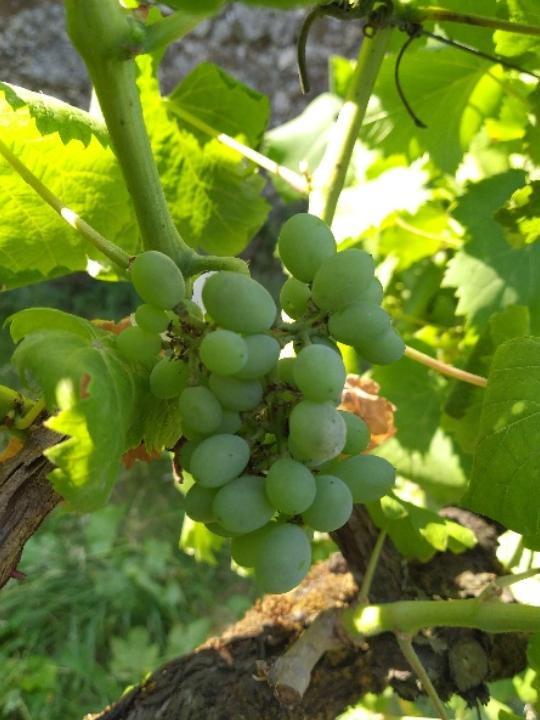grape: (108, 212, 400, 599)
